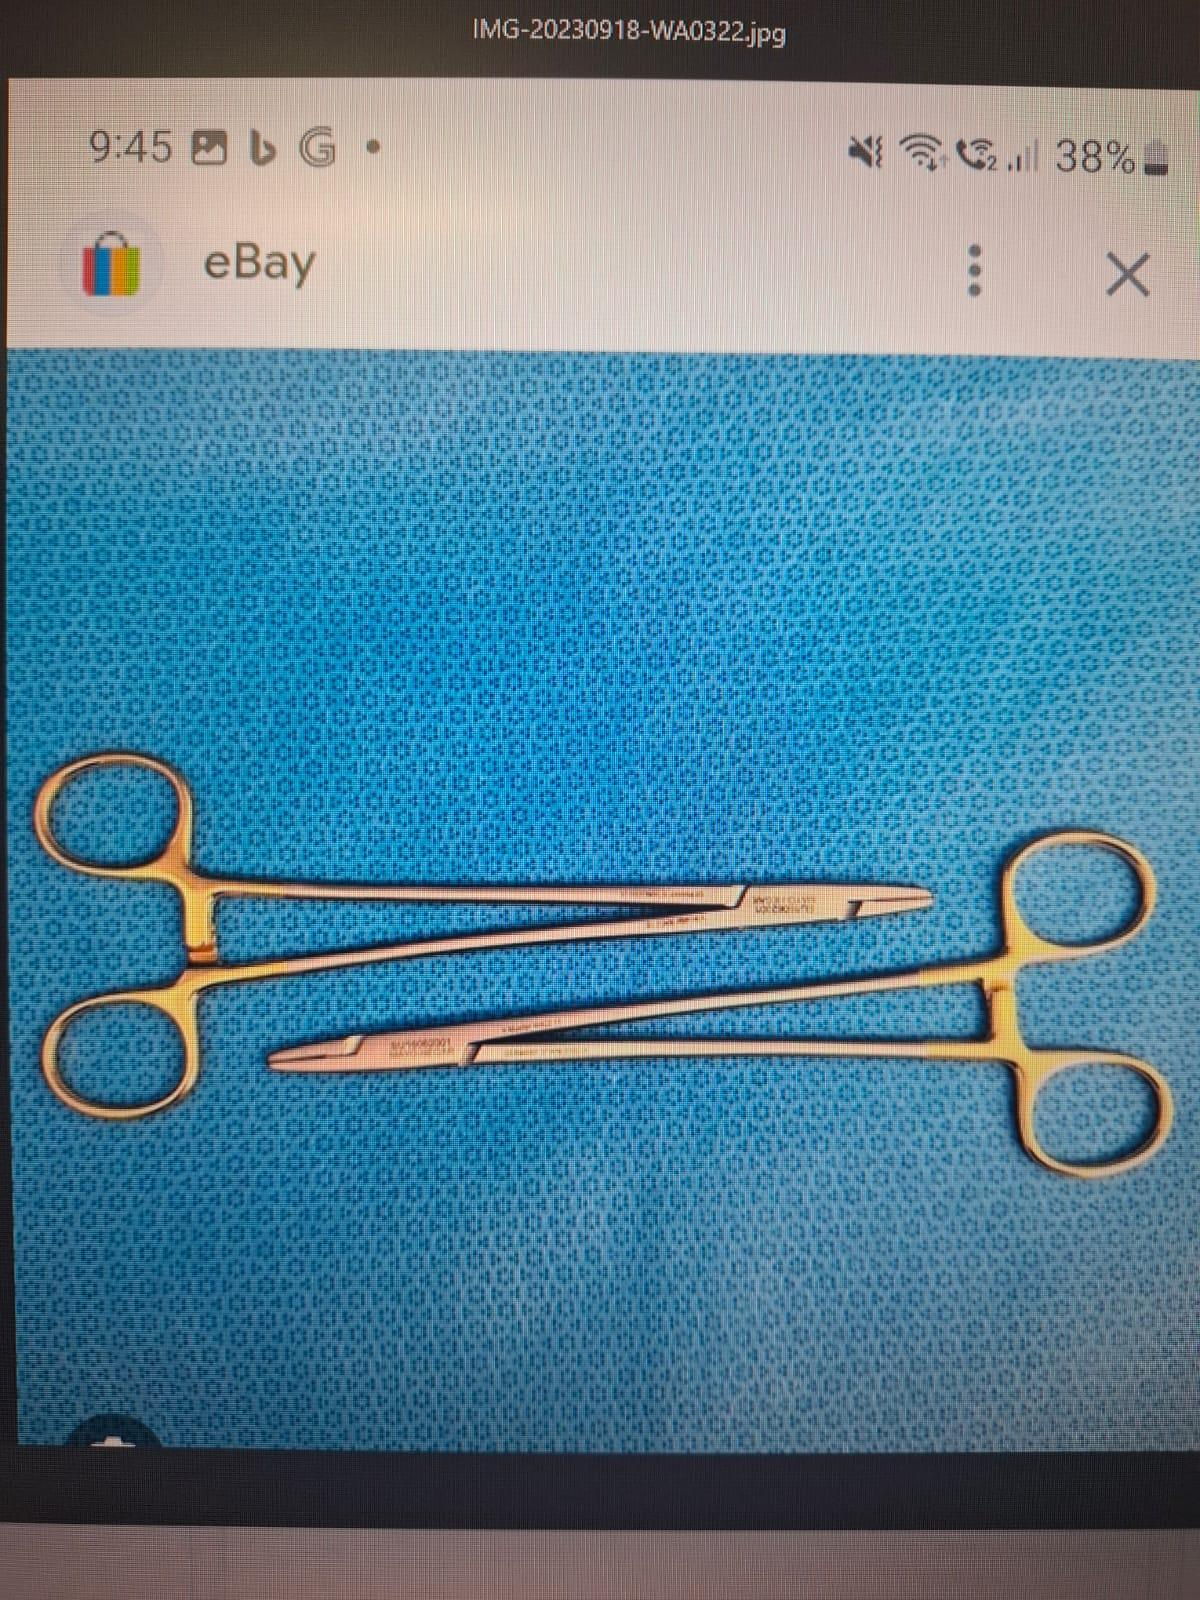Needle Holder: (18, 740, 945, 1133), (260, 813, 1190, 1191)
